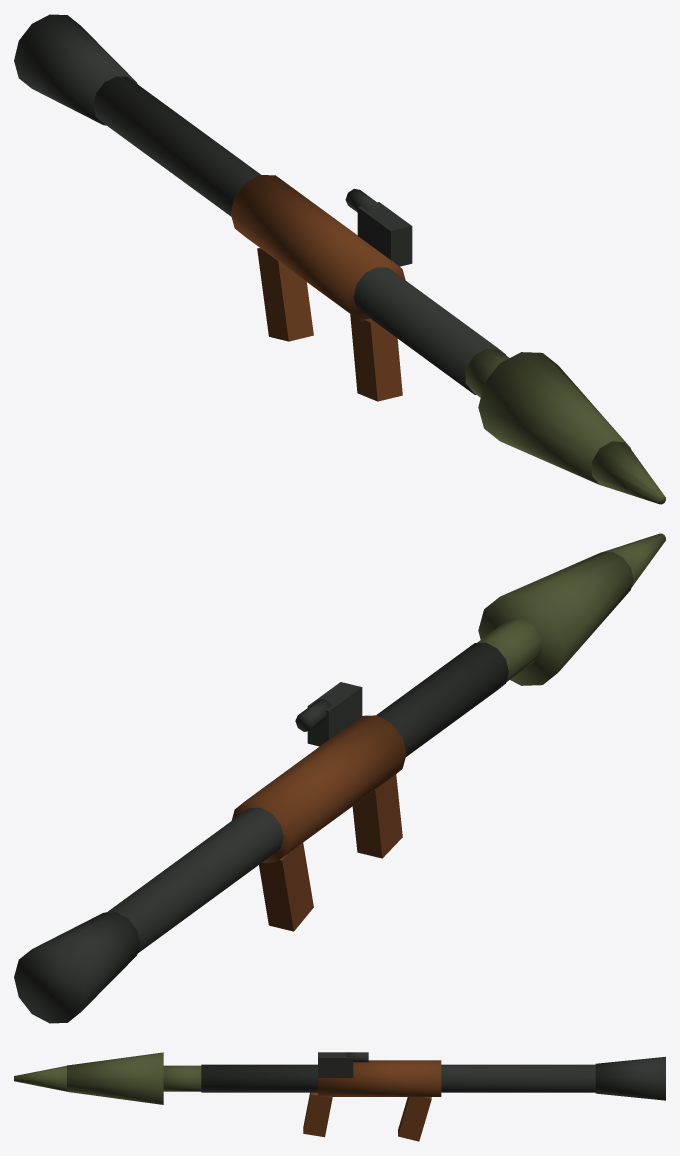
The model's file is wpn_rpg.glb.
3 renders of one model, top to bottom at view 1: azimuth 30°, elevation 25°; view 2: azimuth 150°, elevation 25°; view 3: azimuth 270°, elevation 25°, orthographic. The views are drawn at different scales.
Parts seen in each view (by area): view 1: Weapon; view 2: Weapon; view 3: Weapon.
Boxes of the visible parts, left/top/right/bottom form: Weapon: left=14, top=14, right=665, bottom=504; Weapon: left=14, top=533, right=665, bottom=1023; Weapon: left=14, top=1052, right=665, bottom=1141.
Size of the model in its own units: 0.12 by 0.2316 by 1.48.
